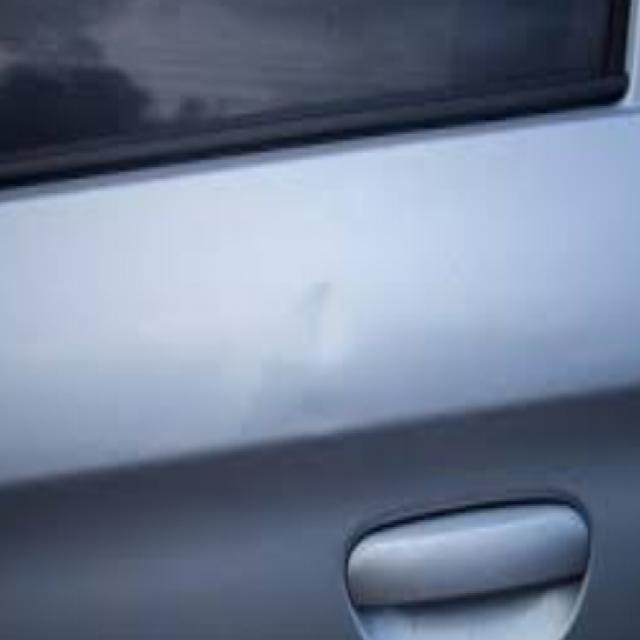dents: (282, 269, 346, 365)
